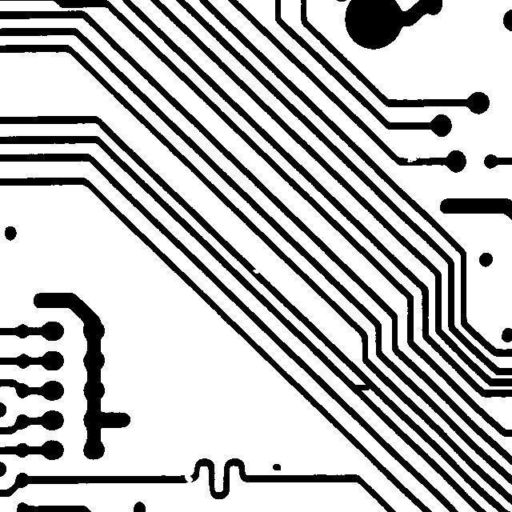copper: (265, 456, 289, 482)
mousebite: (399, 149, 424, 170), (245, 262, 266, 281)
open: (177, 463, 200, 490)
short: (342, 377, 378, 398)
